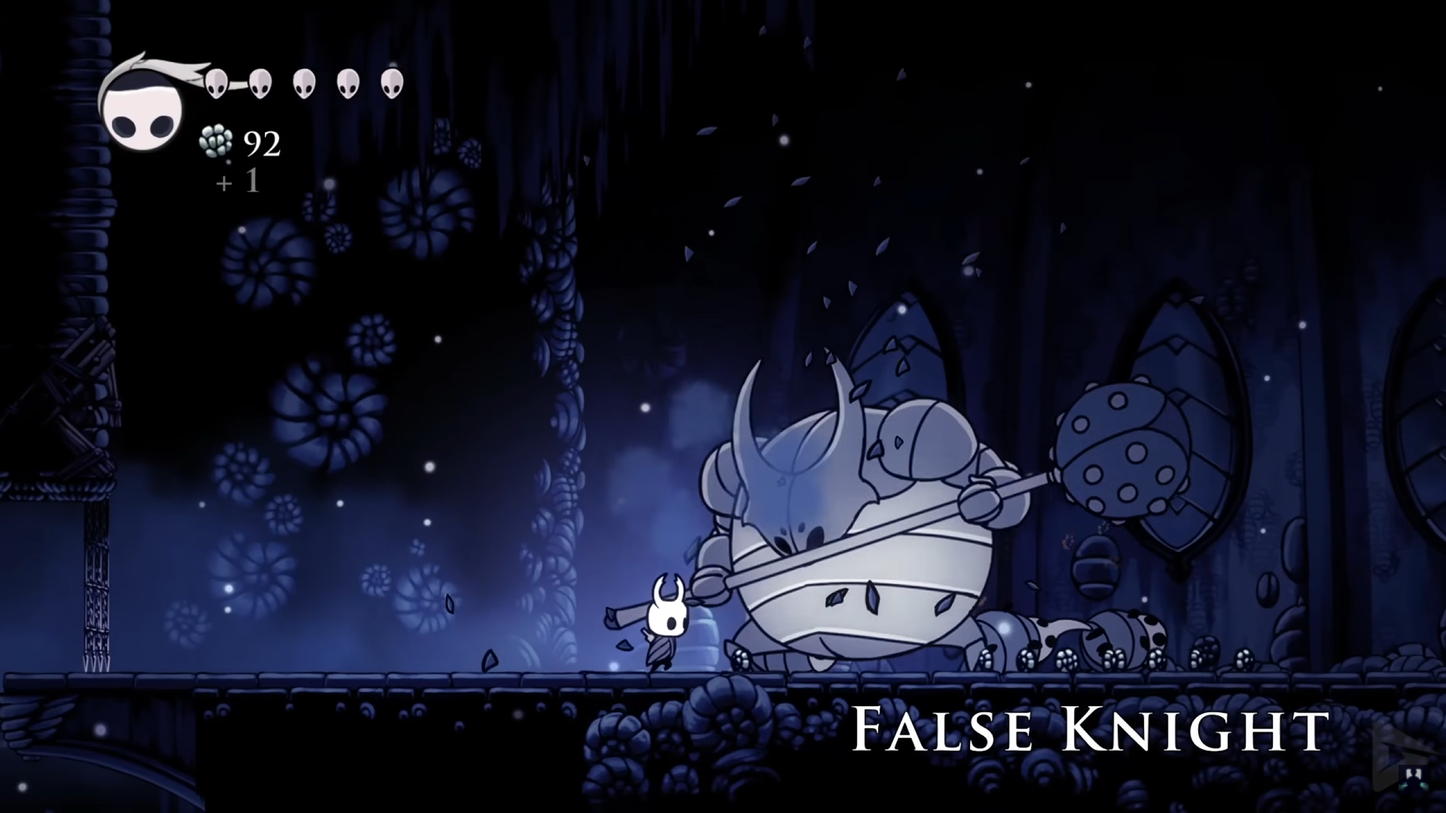HK: (635, 569, 691, 675)
